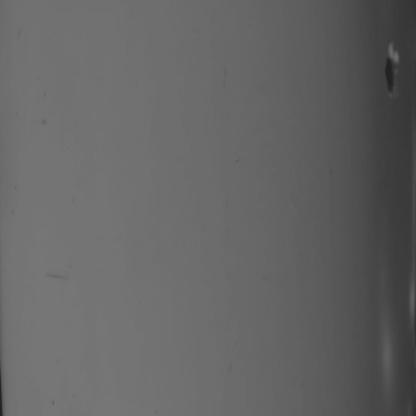kongdong: (364, 43, 407, 108)
